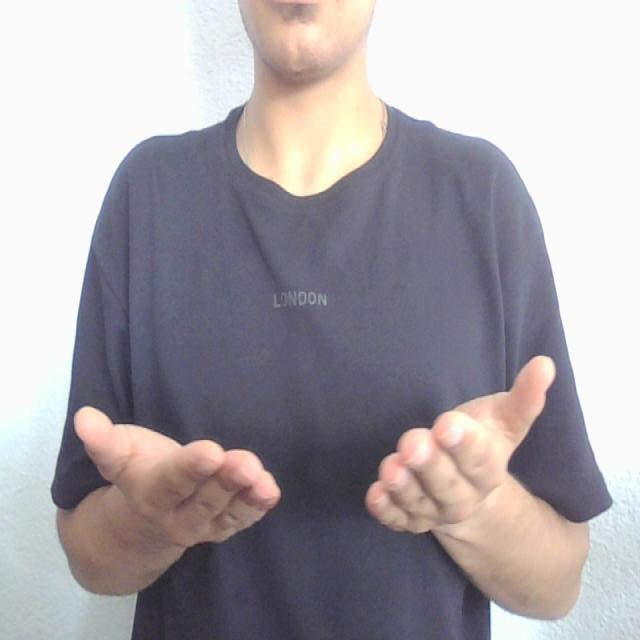Evet: (70, 347, 560, 551)
